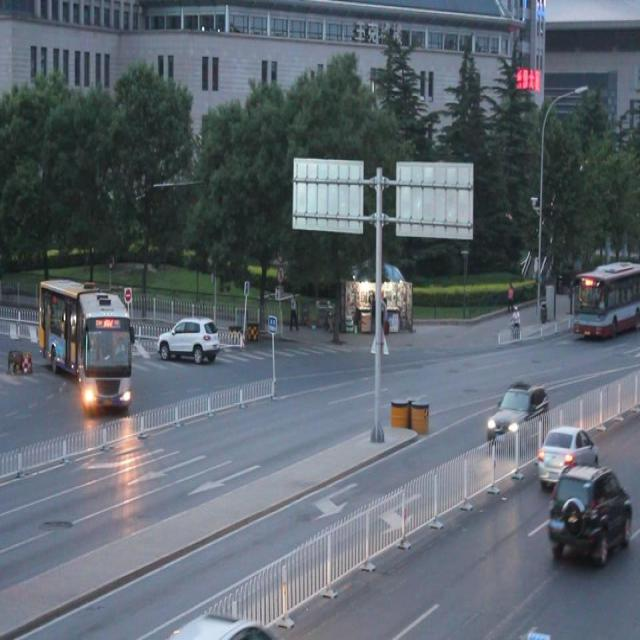car: (547, 463, 629, 561), (485, 377, 549, 444), (536, 422, 595, 487), (157, 314, 219, 364)
van: (37, 278, 135, 407)
